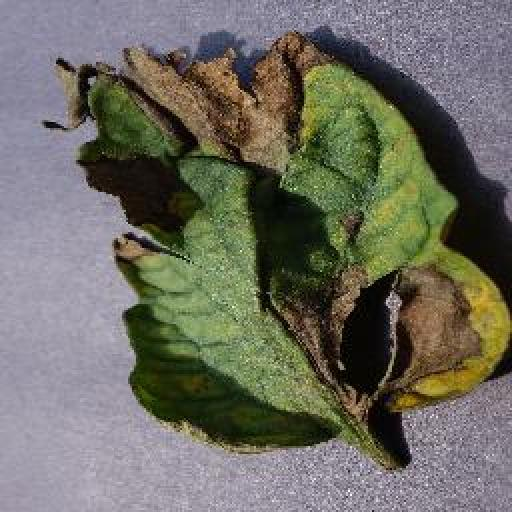Late Blight: (44, 34, 512, 462)
